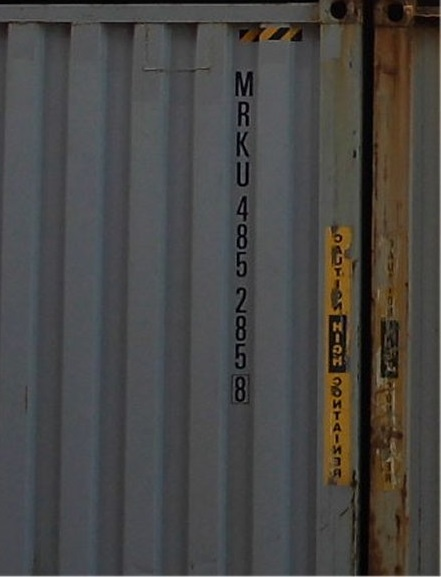container_no_door: (1, 2, 360, 576)
